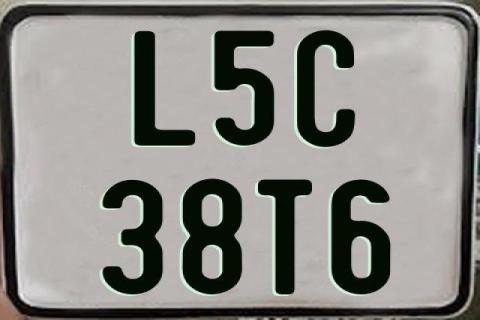0: (330, 178, 396, 294), (212, 29, 276, 144), (179, 177, 239, 297), (102, 179, 162, 295)
C: (296, 28, 360, 149)
L: (131, 29, 195, 143)
T: (255, 179, 309, 299)
